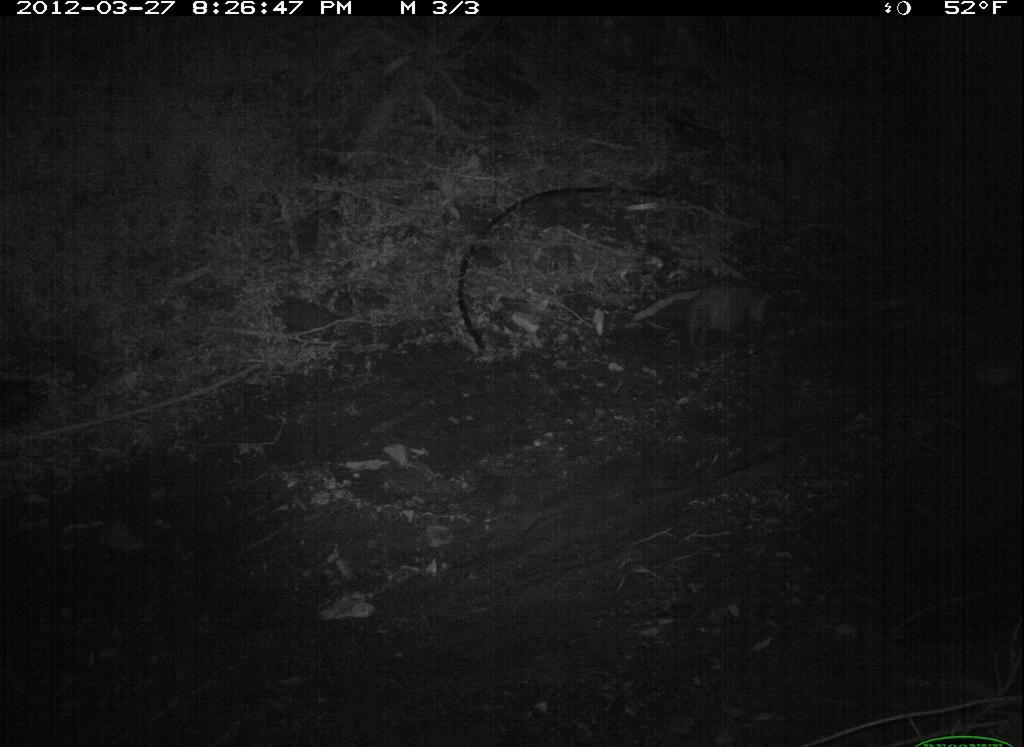opossum: (679, 273, 781, 355)
